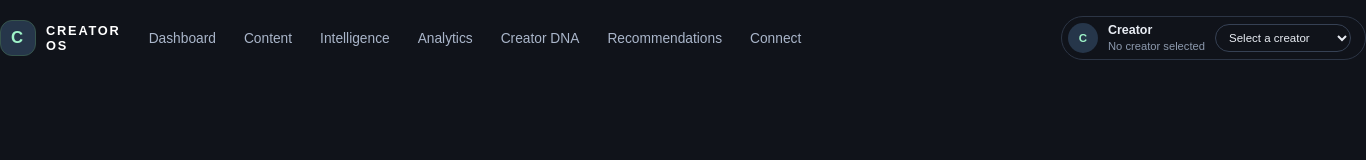
Test case: AppNavigation › lets the user switch to another persisted creator
Select "Alex Rivera" in the dropdown named "Active creator": x=1283, y=38 [1215,24,1351,52]
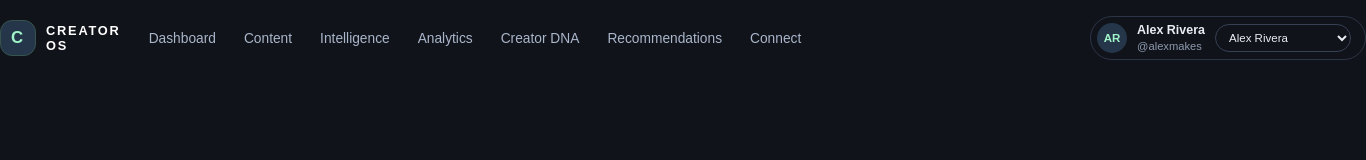
Now the text "Alex Rivera" is shown, box [1137,23,1205,39]
